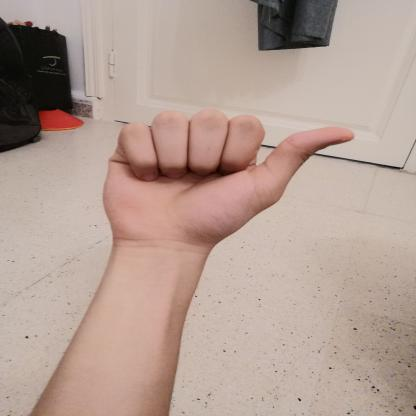DAD: (86, 101, 368, 255)
